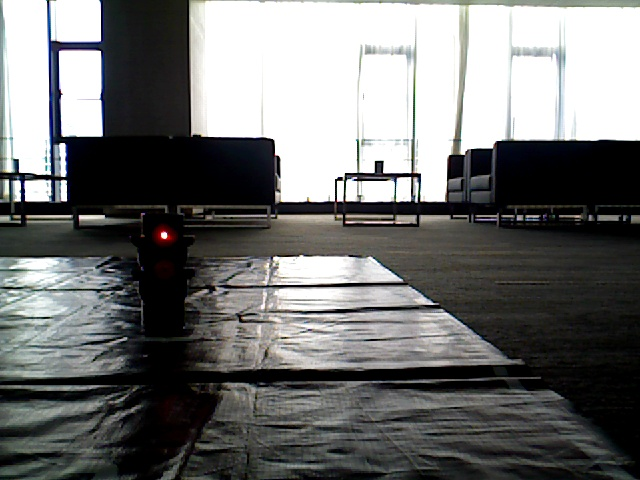red: (138, 212, 185, 326)
